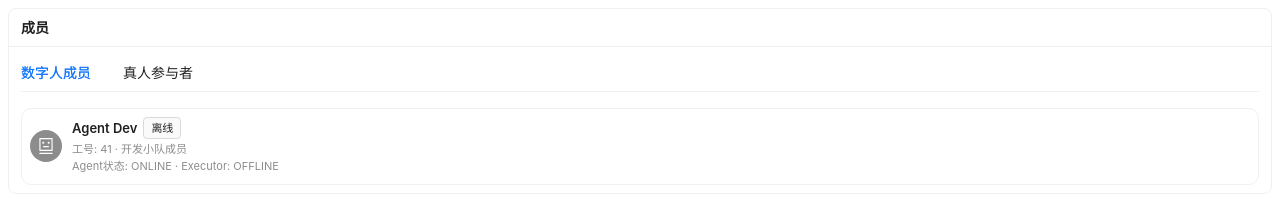
Scenario: SquadMembers › separates human participants from development squad members
Expected: the text "成员" is shown, [21,18,49,36]
Expected: the tab "数字人成员" is shown, [21,62,91,84]
Step 1. Click the tab "真人参与者" → point(158, 73), box [123,62,193,84]
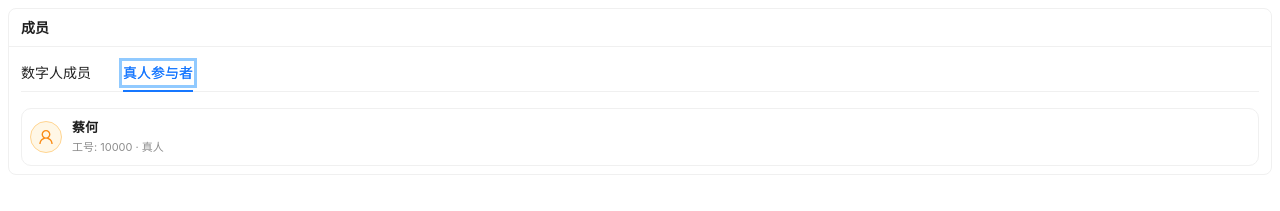
Expected: the text "蔡何" is shown, [72,119,98,135]
Expected: the text "工号: 10000 · 真人" is shown, [72,140,164,154]
Expected: the text "Agent Dev" is gone
